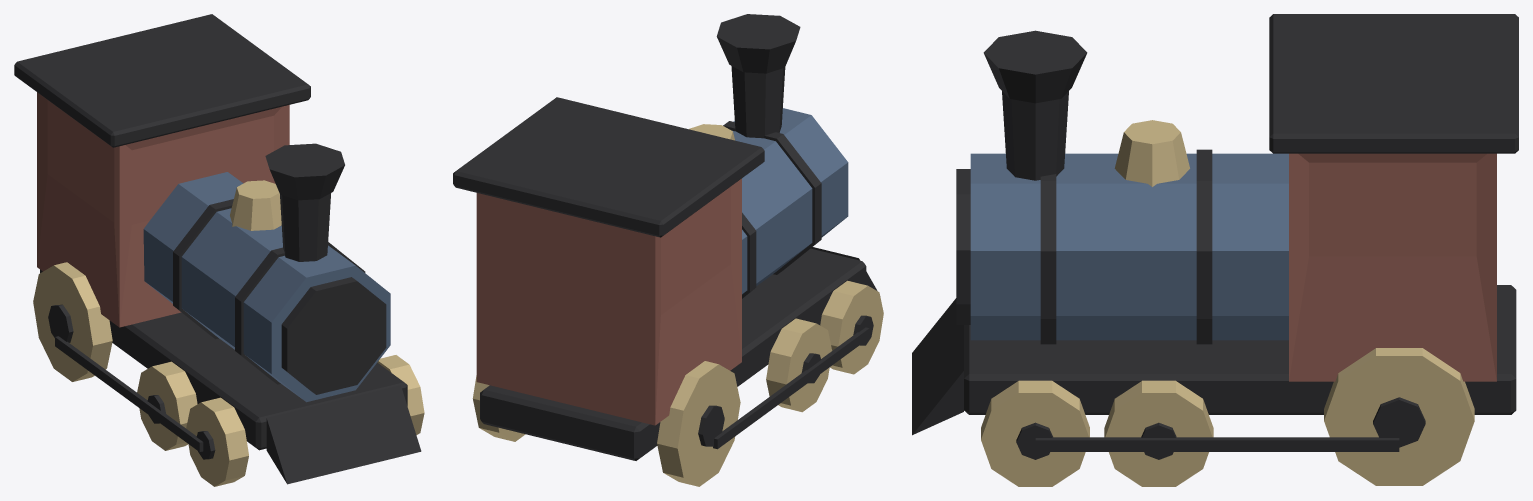
The model's file is train_no_face.glb.
3 views of the same model, side by side, from view 1: azimuth 30°, elevation 25°; view 2: azimuth 150°, elevation 25°; view 3: azimuth 270°, elevation 25° (orthographic). The views are drawn at different scales.
Visible parts, largest first — view 1: TrainNoFace_Cab, TrainNoFace_Roof, TrainNoFace_Boiler, TrainNoFace_Chassis, TrainNoFace_Cowcatcher, TrainNoFace_BoilerCap, TrainNoFace_Wheel3_L, TrainNoFace_Wheel1_L, TrainNoFace_ChimneyTop, TrainNoFace_Wheel2_L, TrainNoFace_Chimney, TrainNoFace_Dome (+5 smaller); view 2: TrainNoFace_Cab, TrainNoFace_Roof, TrainNoFace_Chassis, TrainNoFace_Boiler, TrainNoFace_Wheel3_L, TrainNoFace_ChimneyTop, TrainNoFace_Wheel2_L, TrainNoFace_Wheel1_L, TrainNoFace_Chimney, TrainNoFace_Rod_L, TrainNoFace_Band1, TrainNoFace_Hub3_L (+2 smaller); view 3: TrainNoFace_Boiler, TrainNoFace_Cab, TrainNoFace_Roof, TrainNoFace_Chassis, TrainNoFace_Wheel3_R, TrainNoFace_Wheel1_R, TrainNoFace_Wheel2_R, TrainNoFace_ChimneyTop, TrainNoFace_Rod_R, TrainNoFace_Cowcatcher, TrainNoFace_Chimney, TrainNoFace_Dome (+5 smaller).
Boxes of the visible parts, left/top/right/bottom form: TrainNoFace_Cab: left=37, top=92, right=289, bottom=327; TrainNoFace_Roof: left=14, top=14, right=310, bottom=147; TrainNoFace_Boiler: left=143, top=172, right=390, bottom=402; TrainNoFace_Chassis: left=40, top=269, right=407, bottom=450; TrainNoFace_Cowcatcher: left=266, top=385, right=421, bottom=484; TrainNoFace_BoilerCap: left=281, top=277, right=386, bottom=394; TrainNoFace_Wheel3_L: left=33, top=262, right=112, bottom=381; TrainNoFace_Wheel1_L: left=186, top=397, right=248, bottom=486; TrainNoFace_ChimneyTop: left=265, top=143, right=344, bottom=200; TrainNoFace_Wheel2_L: left=137, top=361, right=197, bottom=450; TrainNoFace_Chimney: left=280, top=193, right=330, bottom=261; TrainNoFace_Dome: left=230, top=180, right=281, bottom=230; TrainNoFace_Cab: left=476, top=178, right=741, bottom=425; TrainNoFace_Roof: left=453, top=97, right=764, bottom=237; TrainNoFace_Chassis: left=480, top=248, right=866, bottom=460; TrainNoFace_Boiler: left=732, top=108, right=848, bottom=294; TrainNoFace_Wheel3_L: left=657, top=361, right=740, bottom=486; TrainNoFace_ChimneyTop: left=716, top=14, right=800, bottom=73; TrainNoFace_Wheel2_L: left=766, top=318, right=832, bottom=412; TrainNoFace_Wheel1_L: left=820, top=280, right=883, bottom=374; TrainNoFace_Chimney: left=731, top=66, right=785, bottom=138; TrainNoFace_Rod_L: left=713, top=327, right=869, bottom=449; TrainNoFace_Band1: left=723, top=121, right=821, bottom=274; TrainNoFace_Hub3_L: left=698, top=405, right=724, bottom=446; TrainNoFace_Boiler: left=970, top=153, right=1288, bottom=340; TrainNoFace_Cab: left=1289, top=153, right=1496, bottom=381; TrainNoFace_Roof: left=1269, top=14, right=1518, bottom=153; TrainNoFace_Chassis: left=964, top=285, right=1516, bottom=414; TrainNoFace_Wheel3_R: left=1324, top=348, right=1474, bottom=485; TrainNoFace_Wheel1_R: left=981, top=380, right=1089, bottom=486; TrainNoFace_Wheel2_R: left=1104, top=380, right=1213, bottom=486; TrainNoFace_ChimneyTop: left=983, top=30, right=1087, bottom=103; TrainNoFace_Rod_R: left=1035, top=437, right=1399, bottom=451; TrainNoFace_Cowcatcher: left=912, top=298, right=963, bottom=435; TrainNoFace_Chimney: left=1002, top=91, right=1068, bottom=180; TrainNoFace_Dome: left=1114, top=120, right=1189, bottom=186.
Bounding box in the file's own units: 0.236 × 0.3179 × 0.467.
